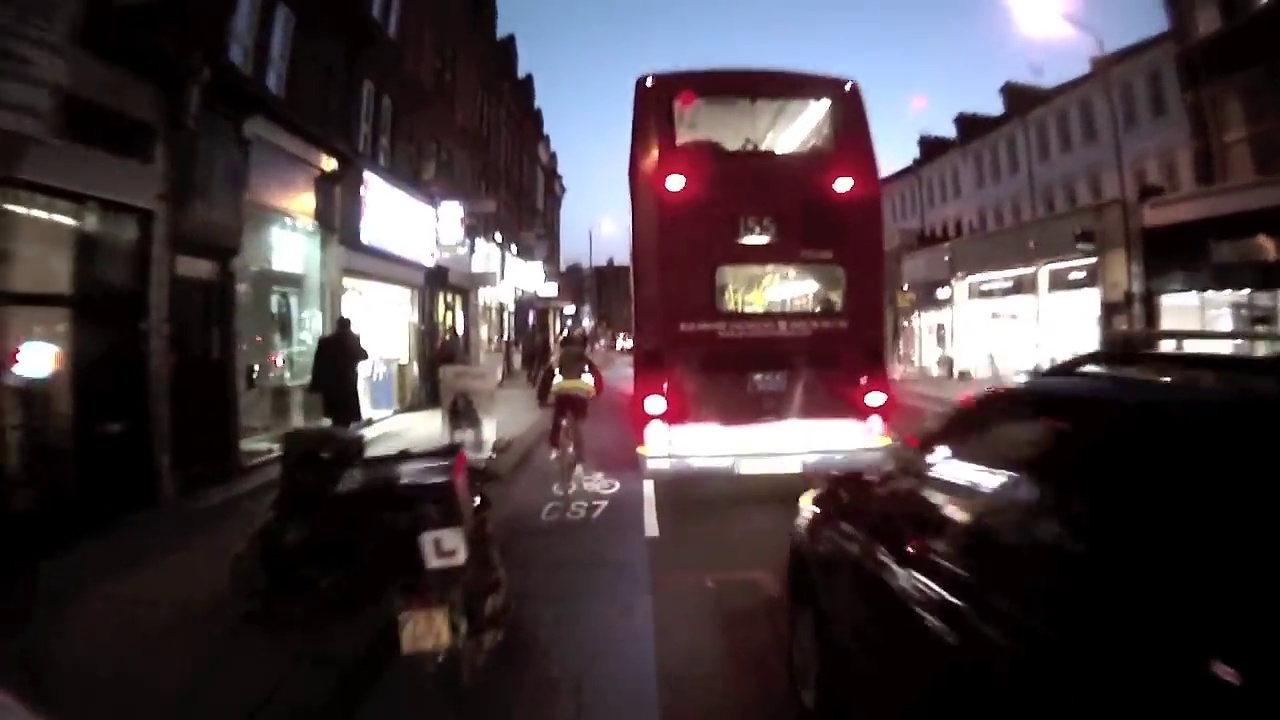cyclist_back: (545, 326, 603, 508)
